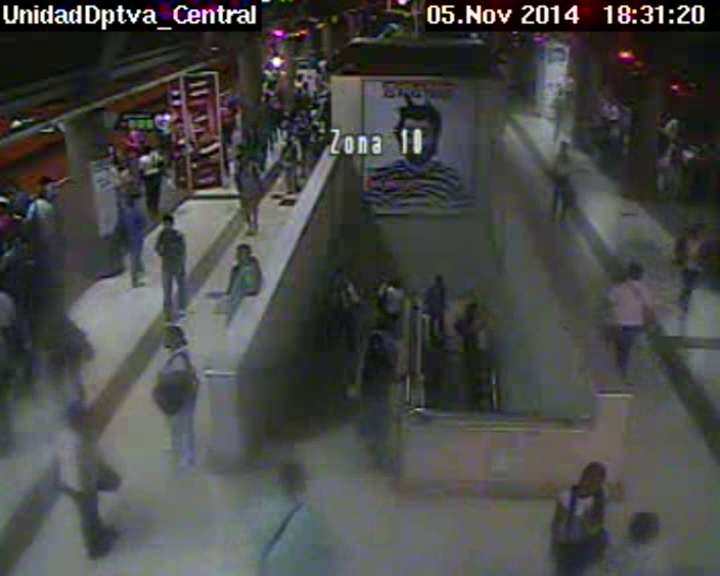person: (274, 461, 309, 497), (629, 509, 662, 541), (578, 462, 607, 494), (64, 401, 89, 430), (158, 323, 185, 349), (234, 241, 255, 263), (625, 259, 645, 282), (159, 213, 179, 231), (366, 330, 384, 347), (463, 301, 479, 317), (687, 226, 703, 242), (557, 138, 572, 154), (236, 152, 251, 168), (122, 196, 136, 210), (139, 143, 154, 156), (34, 188, 47, 203), (432, 273, 445, 287), (333, 262, 345, 276), (390, 277, 403, 289), (125, 149, 137, 159), (268, 78, 278, 89), (673, 137, 683, 146), (129, 123, 138, 132), (107, 143, 116, 152), (601, 116, 610, 125), (228, 87, 236, 96), (296, 98, 304, 107), (111, 156, 119, 164), (260, 96, 268, 104), (557, 87, 564, 95), (145, 127, 152, 135), (236, 103, 243, 111), (117, 165, 124, 172), (221, 99, 228, 106), (313, 102, 320, 109), (312, 125, 319, 132), (274, 92, 281, 99), (286, 139, 293, 146), (609, 99, 615, 106), (298, 74, 304, 81), (303, 82, 309, 89), (297, 88, 303, 94)
